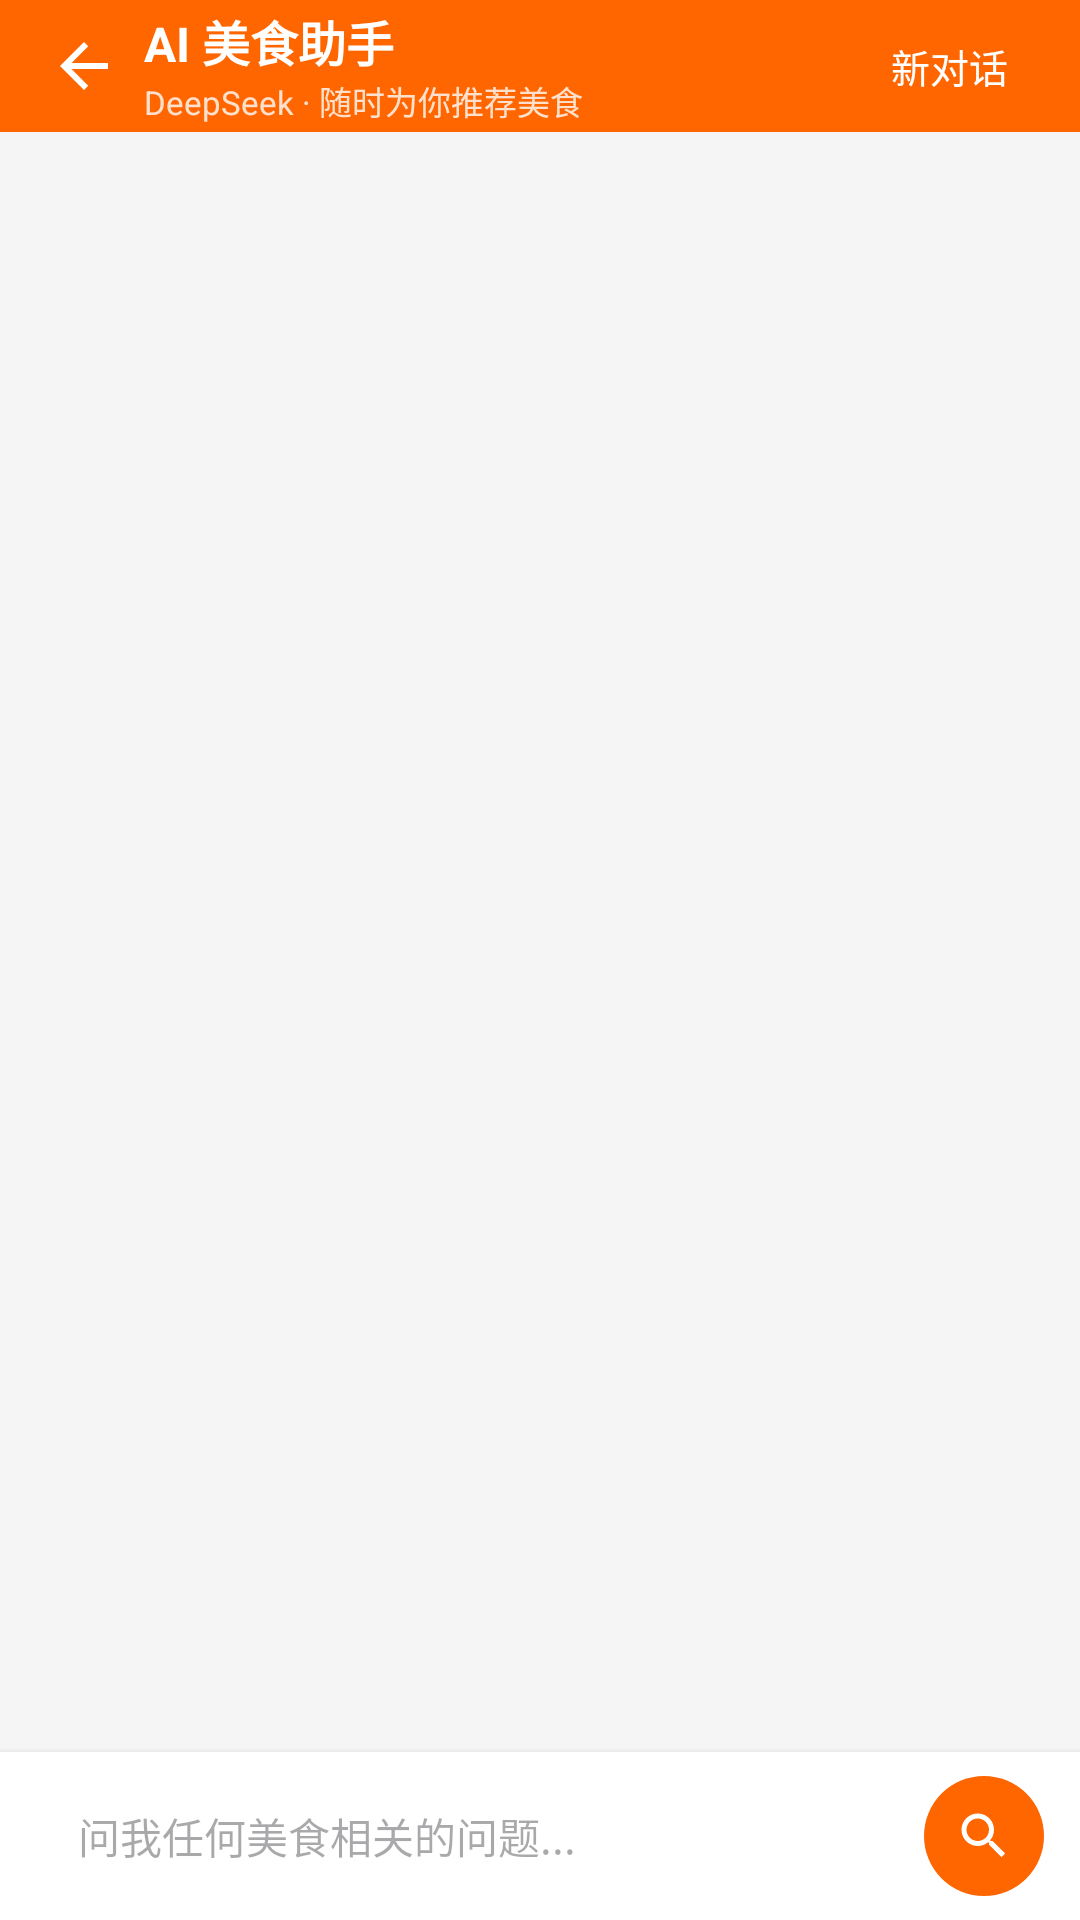

Where to tap for icons on this 1080 x 1920 app screen, as [x,y]:
arrow back: [84,66]
search: [984,1836]
